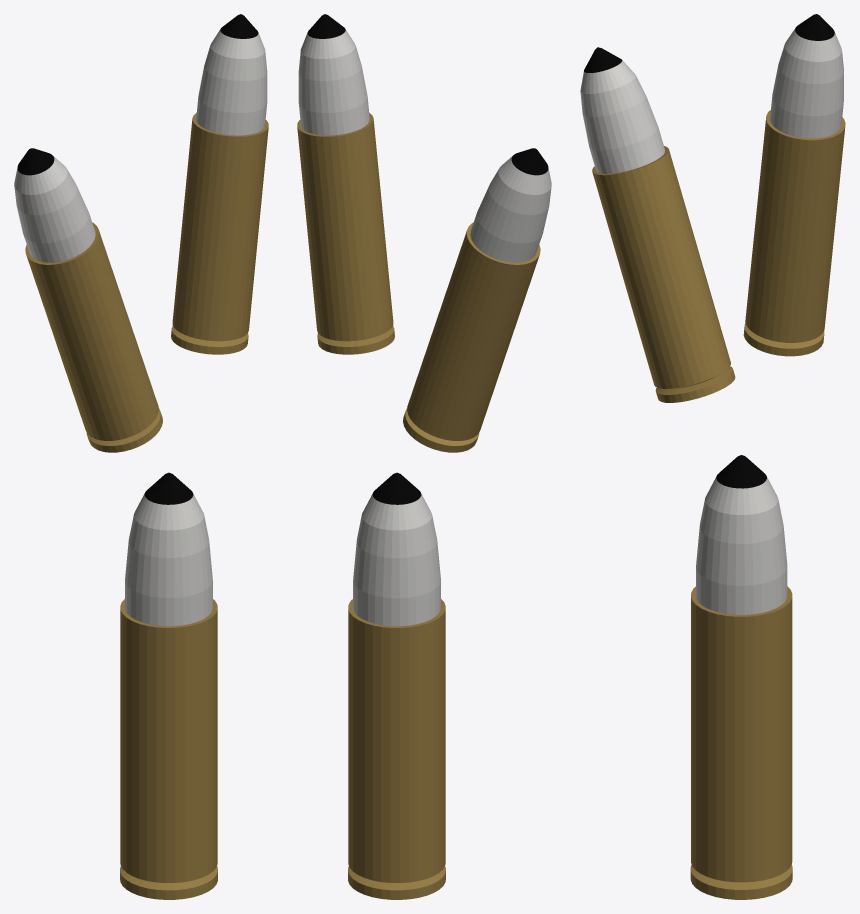
The model's file is item_ricochet.glb.
The picture shows the model from 3 angles, left to right: view 1: azimuth 30°, elevation 25°; view 2: azimuth 150°, elevation 25°; view 3: azimuth 330°, elevation 25°; orthographic projection. The views are drawn at different scales.
Parts seen in each view (by area): view 1: bullet; view 2: bullet; view 3: bullet.
Part boxes in pixels (x1,y1,x2,y2): bullet: (14,14,268,899); bullet: (297,14,551,899); bullet: (580,14,845,899).
Bounding box in the file's own units: 0.197 × 0.6496 × 0.0682.
